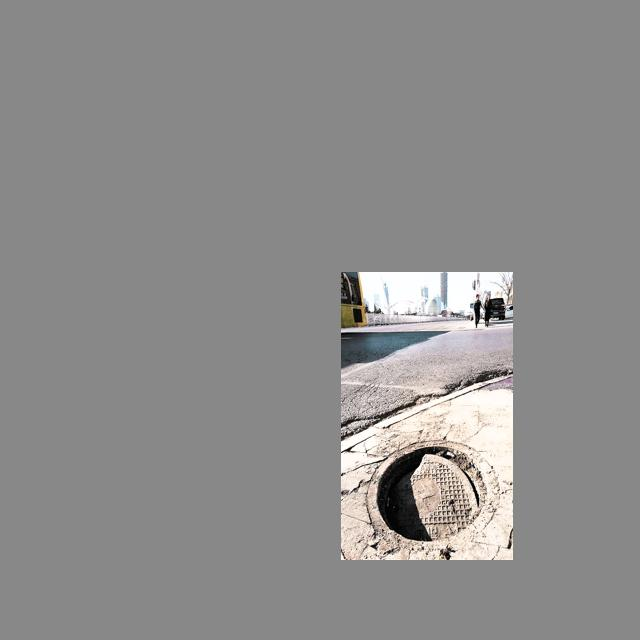broke: (354, 432, 503, 550)
